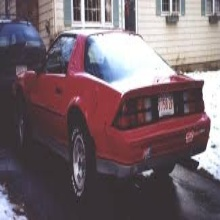no damage: (10, 28, 211, 199), (1, 20, 47, 72)
